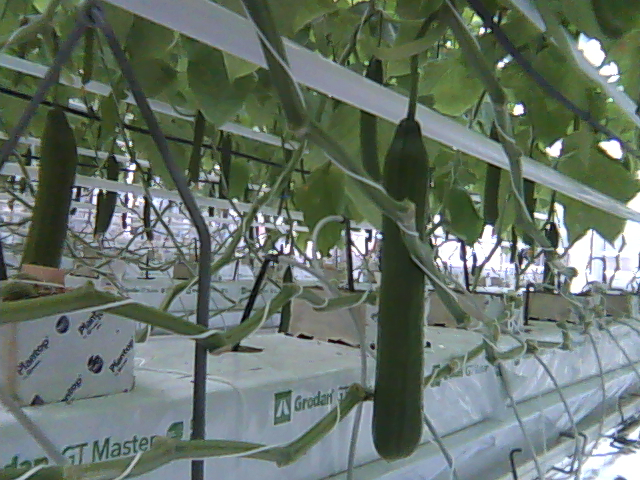concombre: (372, 107, 433, 464)
